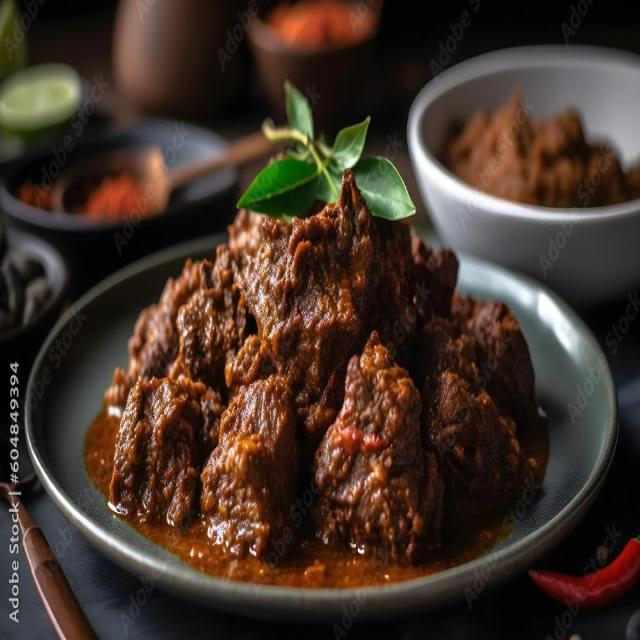Rendang: (92, 212, 565, 577)
